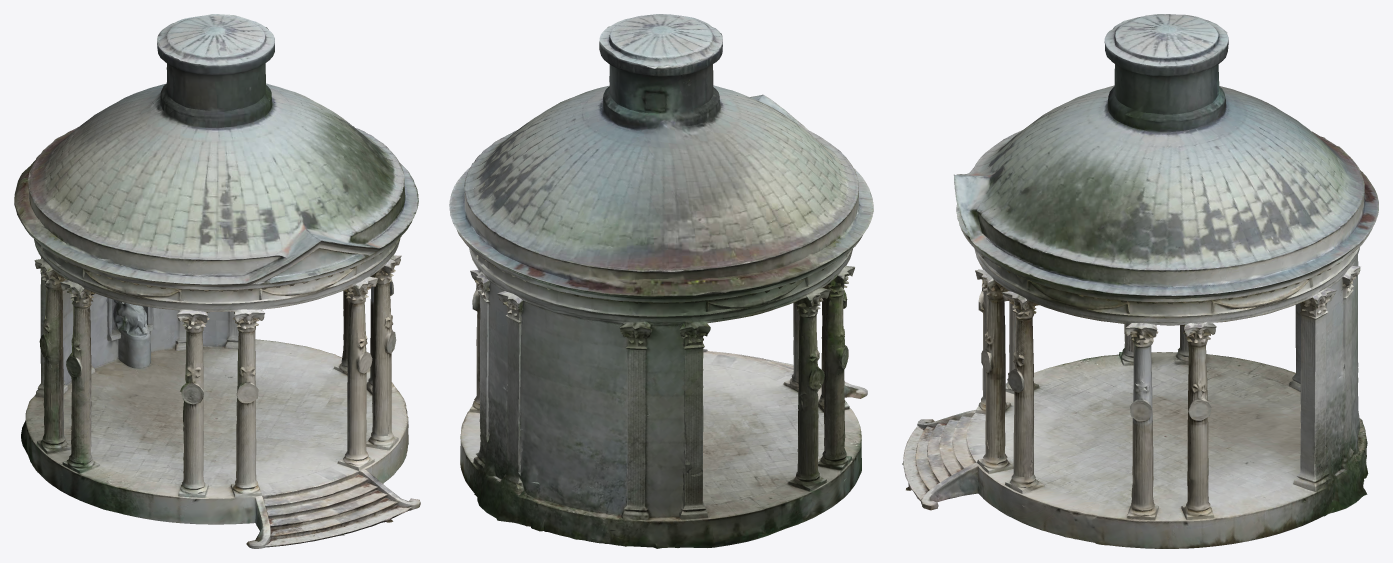
3 renders of one model, left to right at view 1: azimuth 30°, elevation 25°; view 2: azimuth 150°, elevation 25°; view 3: azimuth 270°, elevation 25°, orthographic. The views are drawn at different scales.
Visible parts, largest first — view 1: temple_all_uv_0; view 2: temple_all_uv_0; view 3: temple_all_uv_0.
Boxes of the visible parts, x1,y1,x2,y2 form: temple_all_uv_0: (14,14,420,548); temple_all_uv_0: (449,14,873,548); temple_all_uv_0: (902,14,1378,548).
Bounding box in the file's own units: 12.12 × 13.69 × 13.6.
Materials: 1 (1 with a texture image).
